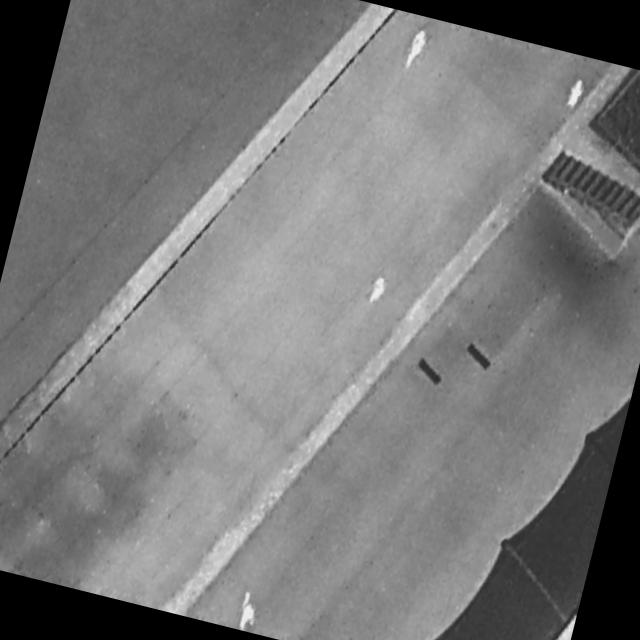person: (399, 23, 432, 77), (234, 590, 261, 633), (563, 75, 588, 115), (367, 273, 390, 308)
